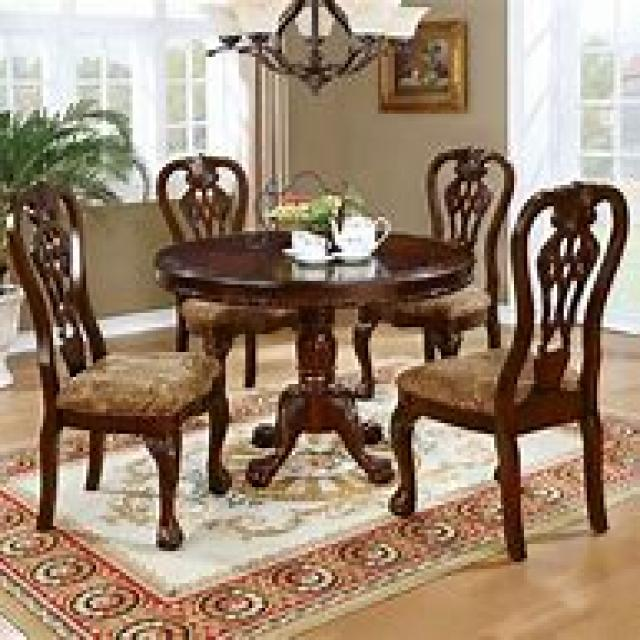chair: (388, 178, 627, 558), (3, 178, 229, 548), (351, 142, 514, 398), (152, 153, 298, 384)
table: (153, 224, 474, 487)
